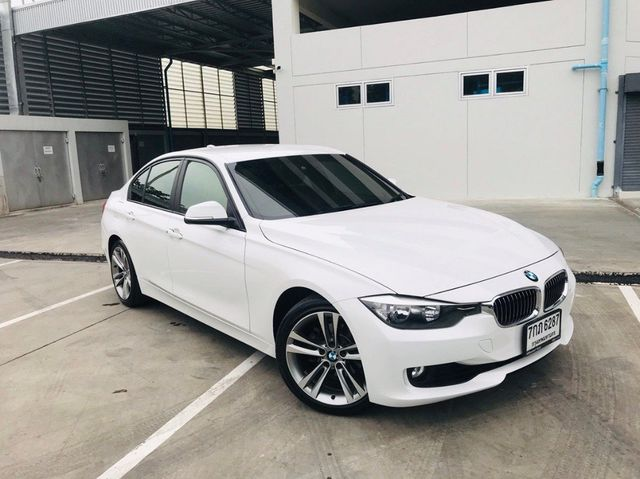sedan: (100, 142, 577, 414)
